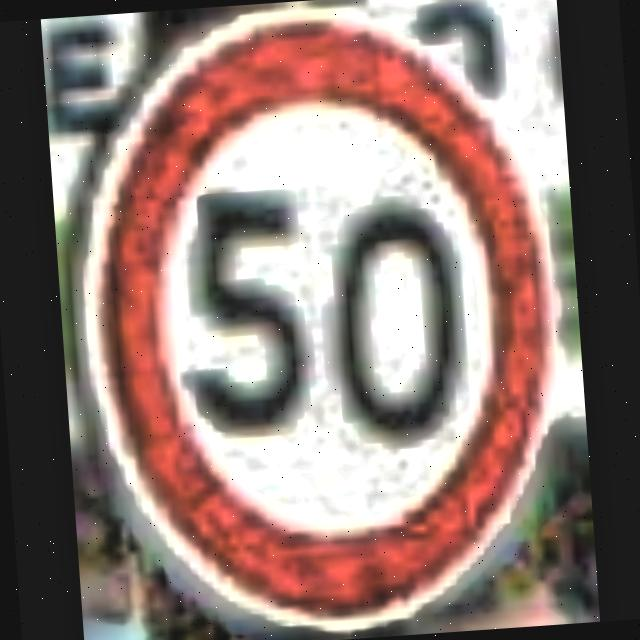speed_50: (40, 0, 592, 640)
